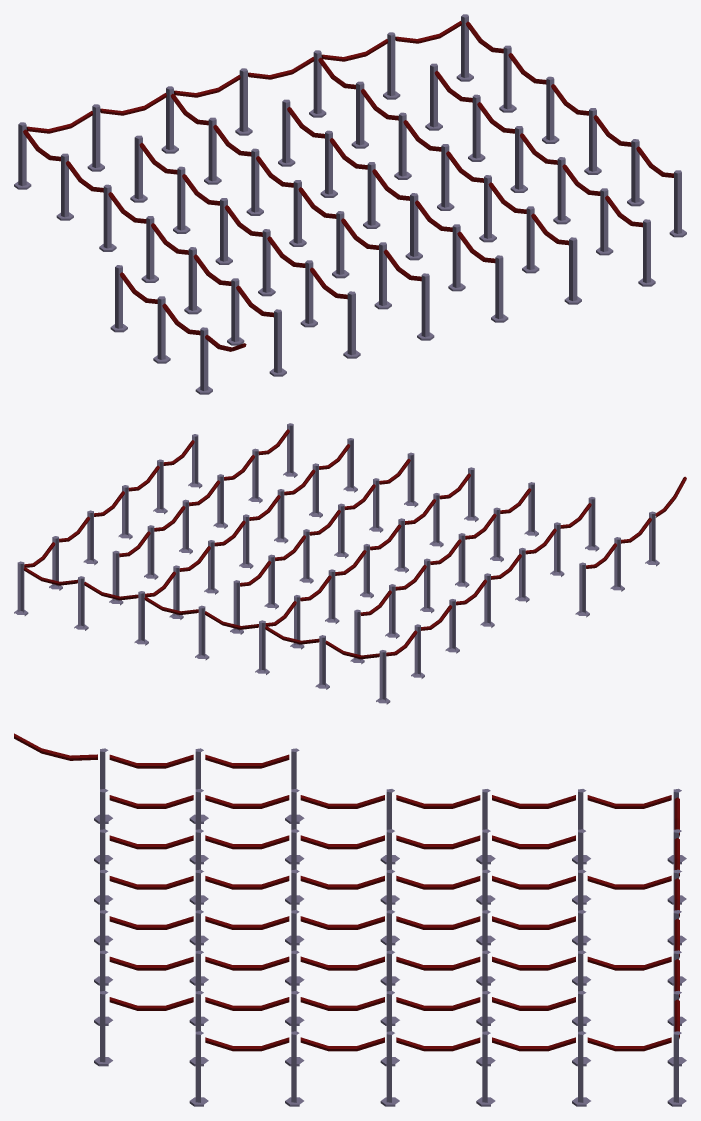
Rendered from RopeQueue.obj.
3 views of the same model, one above another, from view 1: azimuth 30°, elevation 25°; view 2: azimuth 150°, elevation 25°; view 3: azimuth 270°, elevation 25° (orthographic). The views are drawn at different scales.
Parts seen in each view (by area): view 1: 2ndLineRope_Cylinder; view 2: 2ndLineRope_Cylinder; view 3: 2ndLineRope_Cylinder.
Part boxes in pixels (left/top/right/bottom): 2ndLineRope_Cylinder: left=14, top=14, right=686, bottom=394; 2ndLineRope_Cylinder: left=14, top=423, right=686, bottom=704; 2ndLineRope_Cylinder: left=14, top=733, right=686, bottom=1106.
Bounding box in the file's own units: 7.18 × 1.01 × 7.04.
